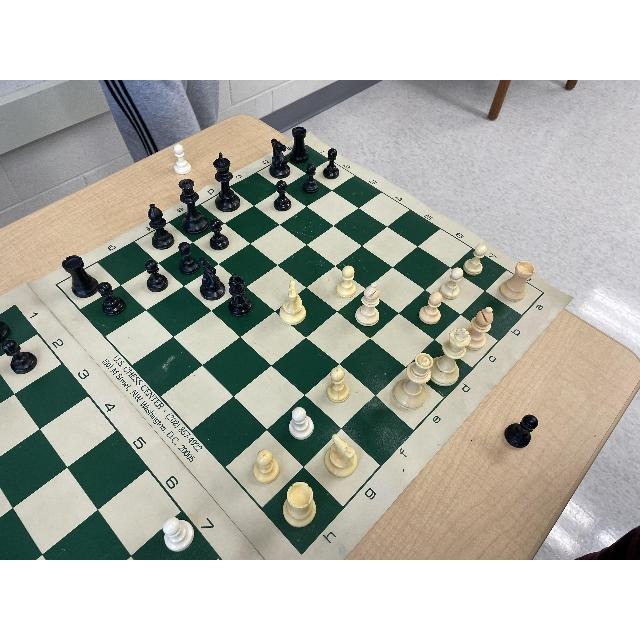black-bishop: (146, 203, 174, 250), (226, 273, 254, 319)
black-king: (212, 152, 242, 212)
black-knight: (198, 259, 226, 301), (269, 137, 293, 179)
black-pawn: (2, 339, 40, 375), (98, 281, 128, 316), (143, 258, 169, 291), (178, 242, 202, 275), (322, 147, 342, 180), (273, 180, 292, 214), (210, 219, 230, 251), (302, 162, 322, 193)
black-queen: (176, 178, 209, 234)
black-rook: (60, 254, 101, 300), (289, 125, 310, 164)
white-bishop: (461, 308, 494, 352), (356, 281, 384, 327)
white-king: (427, 327, 470, 388)
white-knight: (323, 435, 359, 479), (276, 278, 307, 325)
white-pawn: (160, 515, 197, 550), (323, 367, 353, 405), (252, 448, 280, 486), (288, 407, 316, 441), (418, 291, 443, 325), (463, 243, 489, 275), (440, 266, 464, 300), (336, 264, 356, 297)
white-queen: (391, 352, 435, 411)
white-rook: (282, 481, 318, 529), (501, 260, 536, 302)
